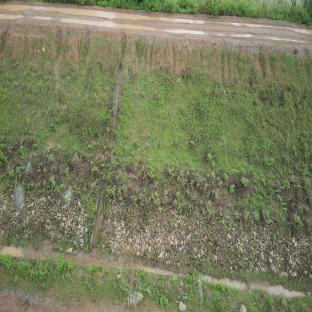rock_toe: (104, 201, 311, 280), (0, 187, 93, 254)
slope_drain: (87, 63, 125, 250)
toe_drain: (0, 241, 312, 299)
